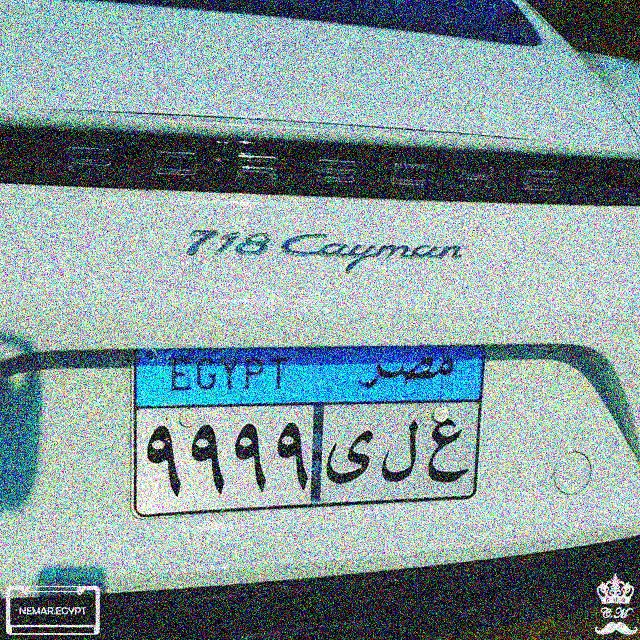License Plate: (128, 341, 488, 521)
